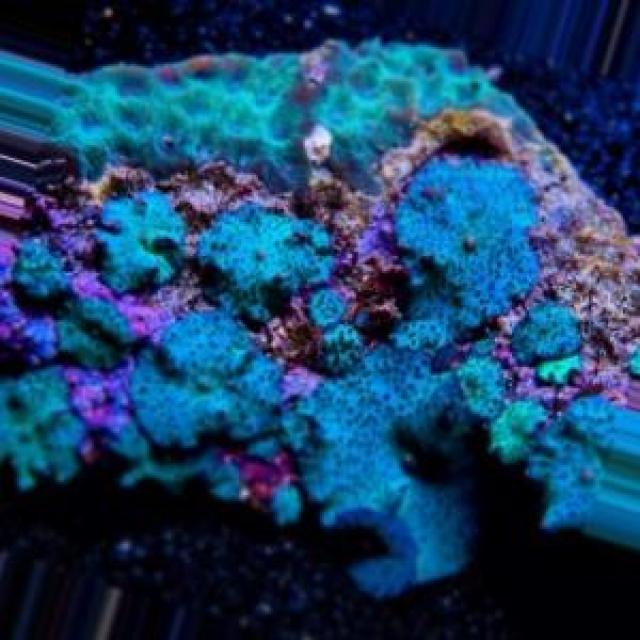healthy coral: (0, 42, 640, 596)
